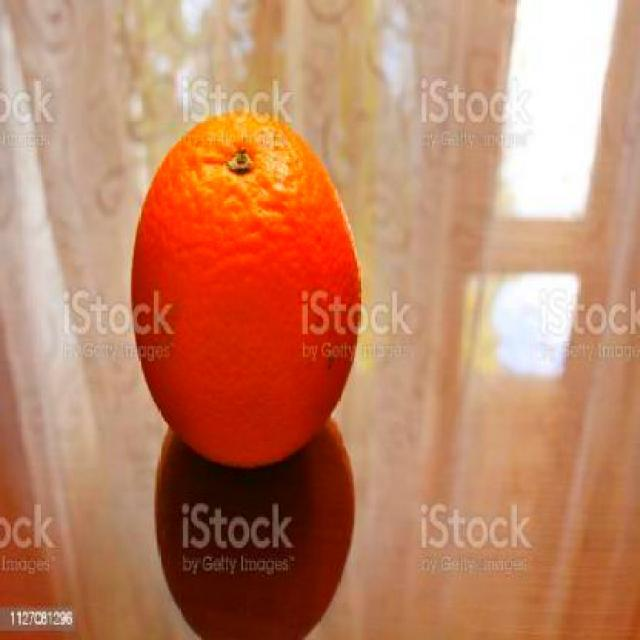Jeruk Sudah Matang: (130, 113, 361, 470)
